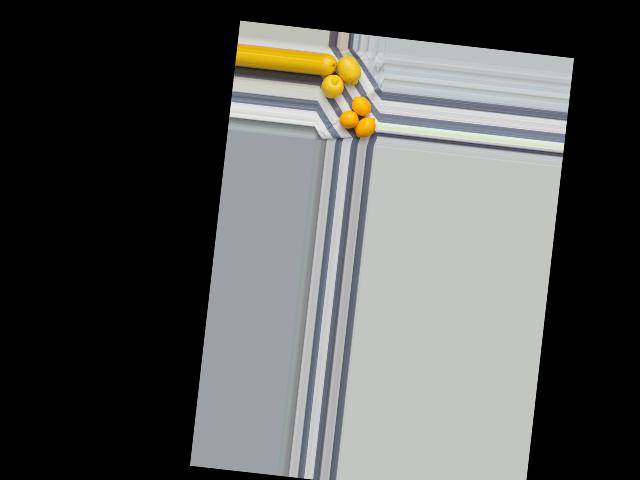lemon: (354, 115, 376, 139)
